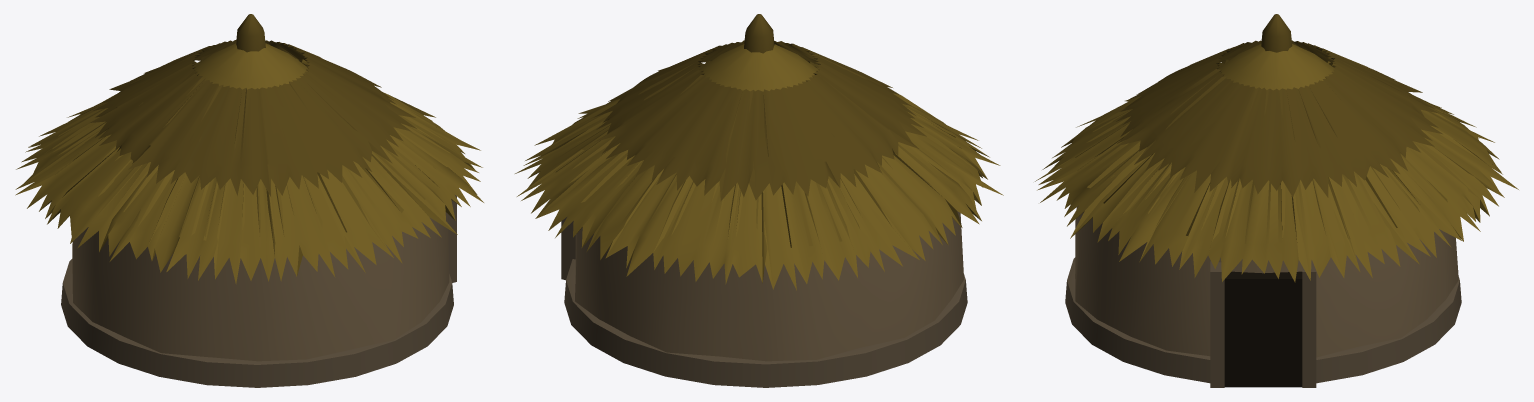
The model's file is ZonHut09.glb.
The picture shows the model from 3 angles, left to right: view 1: azimuth 30°, elevation 25°; view 2: azimuth 150°, elevation 25°; view 3: azimuth 270°, elevation 25°; orthographic projection. The views are drawn at different scales.
Parts seen in each view (by area): view 1: hut_wall; view 2: hut_wall; view 3: hut_wall.
Boxes of the visible parts, x1,y1,x2,y2 form: hut_wall: (15, 14, 483, 387); hut_wall: (515, 14, 1003, 387); hut_wall: (1035, 14, 1518, 387).
Bounding box in the file's own units: 5.3 × 3.6 × 5.5.
